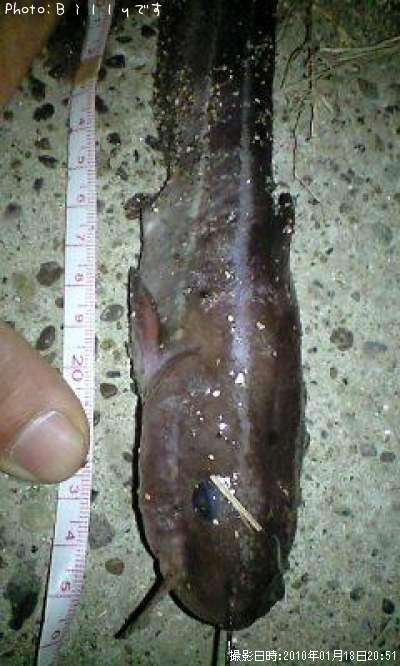gonzui: (128, 1, 323, 639)
